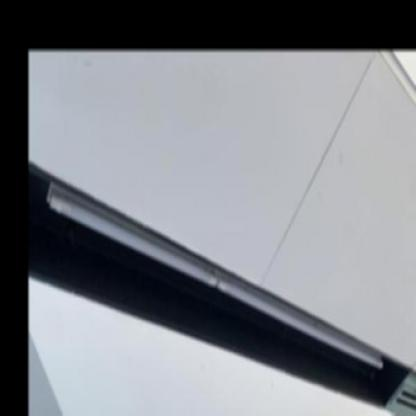light_off: (39, 160, 388, 390)
